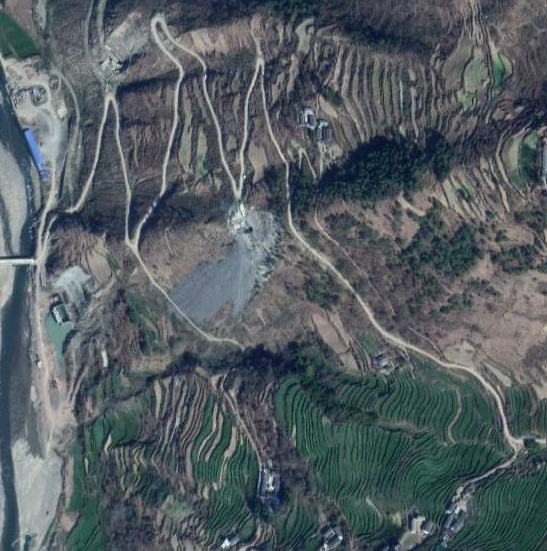slope: (165, 199, 285, 331)
